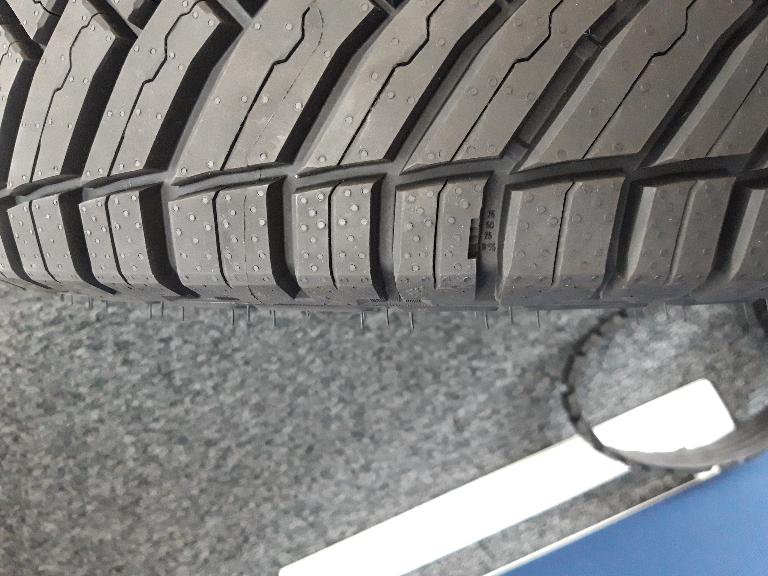temoin:100: (467, 210, 483, 261)
